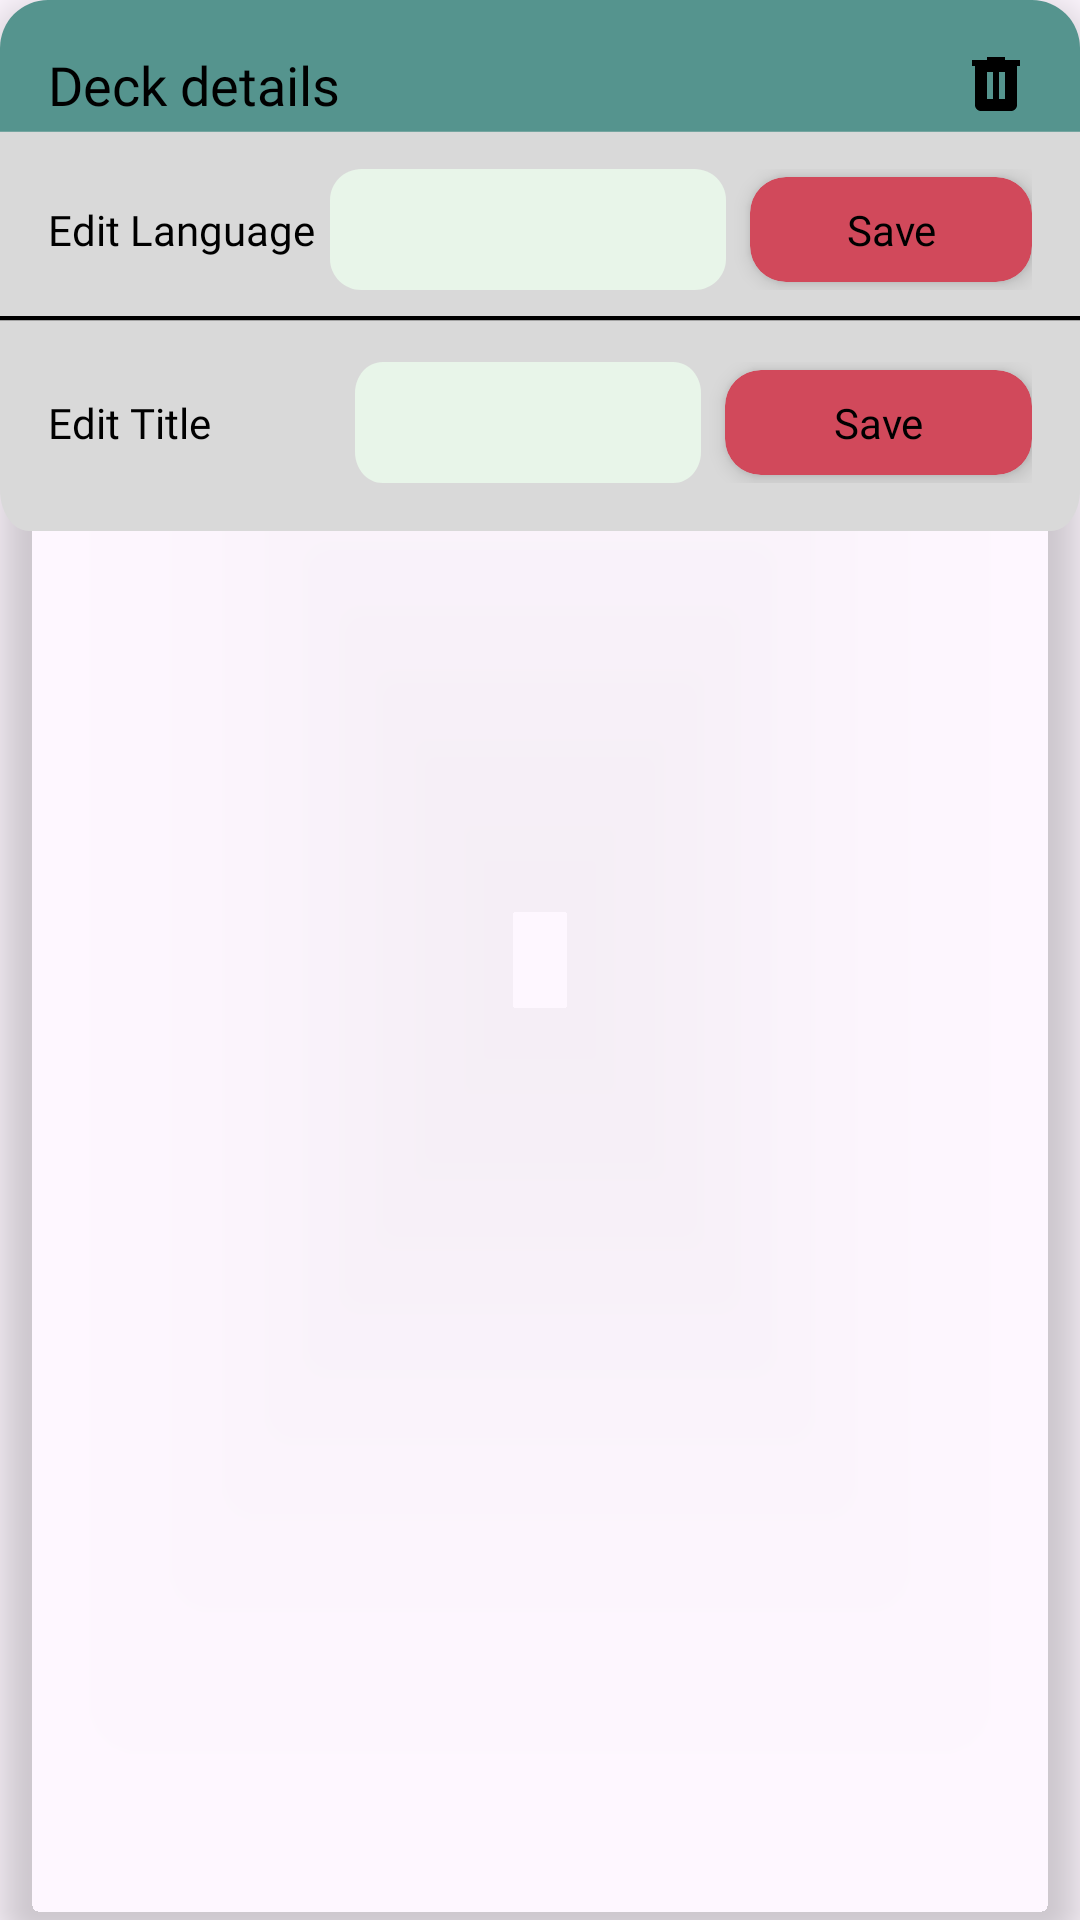

Locate icon controls on the screen. Image size 1080w x 1920h, boxes as (x1, y1, x2, y2).
Delete deck: (972, 57, 1020, 111)
